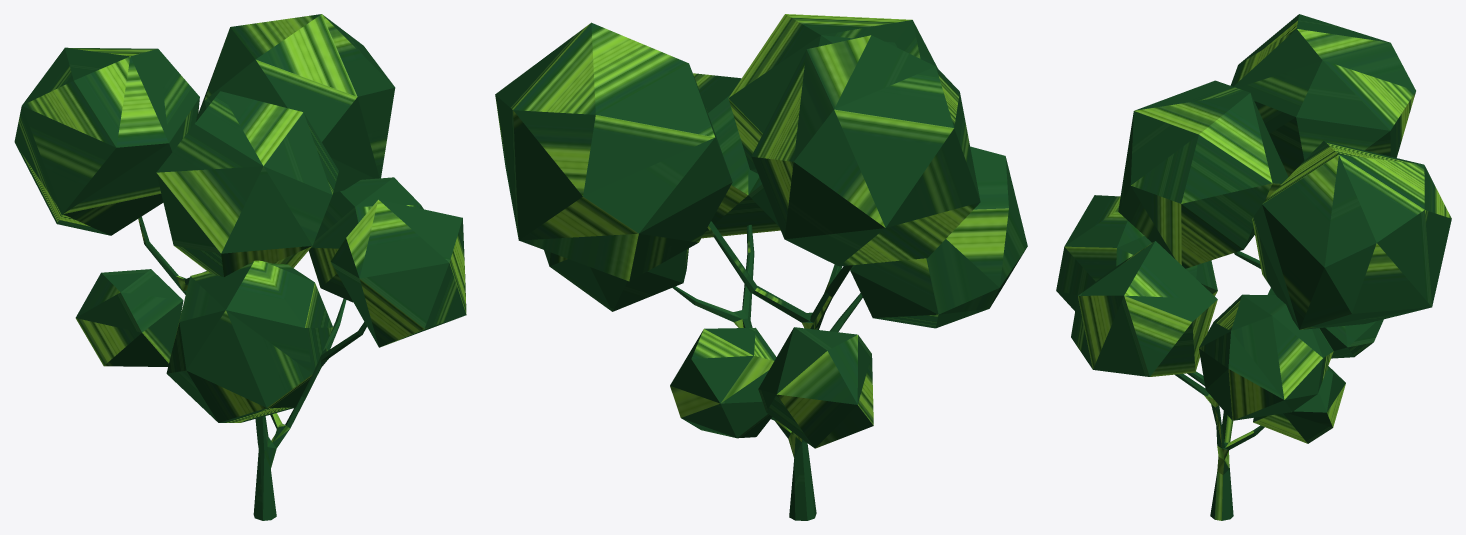
Rendered from oak_2.obj.
3 renders of one model, left to right at view 1: azimuth 30°, elevation 25°; view 2: azimuth 150°, elevation 25°; view 3: azimuth 270°, elevation 25°, orthographic. The views are drawn at different scales.
Visible parts, largest first — view 1: oak_2_Cube.009; view 2: oak_2_Cube.009; view 3: oak_2_Cube.009.
Part boxes in pixels (bbox=[...]): oak_2_Cube.009: bbox=[14, 14, 466, 520]; oak_2_Cube.009: bbox=[495, 14, 1027, 520]; oak_2_Cube.009: bbox=[1056, 14, 1451, 520].
Size of the model in its own units: 8.56 by 9.95 by 8.08.
